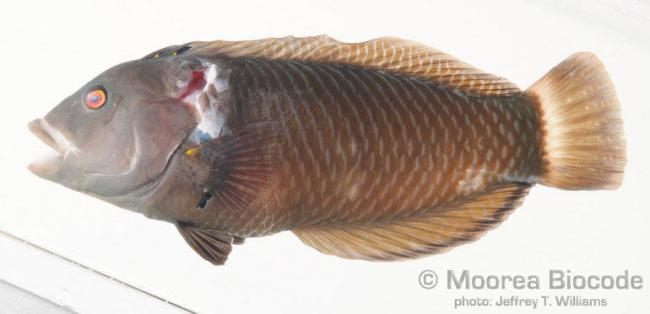fish: (27, 32, 628, 266)
